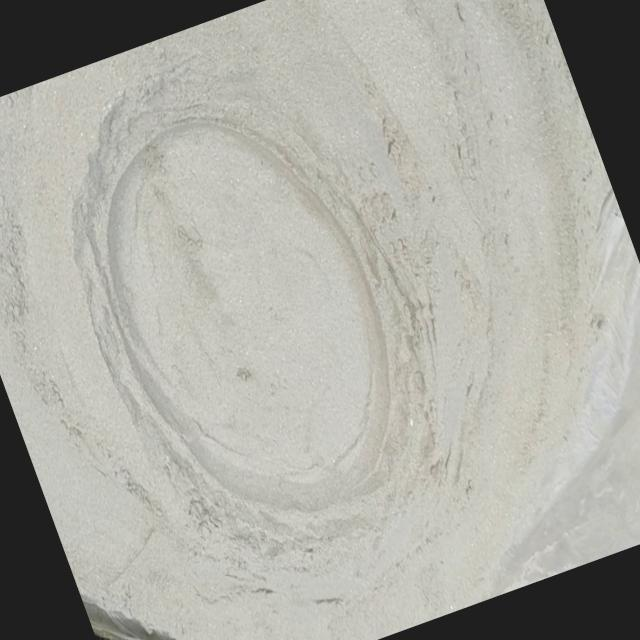C40: (88, 106, 429, 556)
